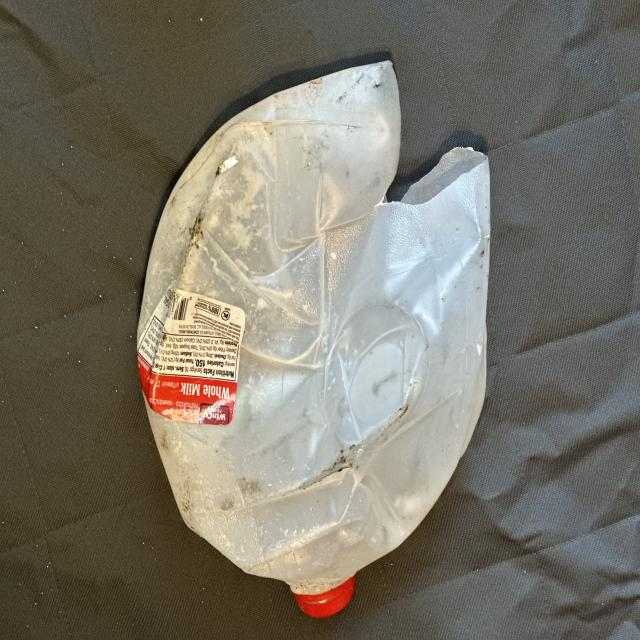milk-jug: (137, 56, 491, 617)
